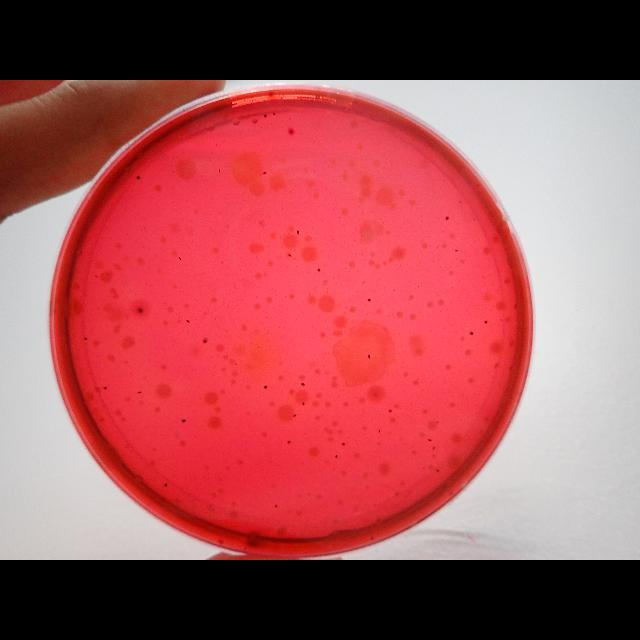colony: (288, 127, 296, 137), (136, 306, 146, 314), (82, 334, 90, 342), (180, 417, 188, 425), (340, 440, 348, 448), (202, 336, 208, 346), (262, 112, 268, 120), (135, 174, 141, 182), (185, 317, 191, 325), (136, 388, 142, 396), (163, 480, 169, 488), (262, 384, 270, 390), (444, 214, 450, 222), (178, 255, 185, 261), (102, 384, 108, 391), (300, 399, 306, 406), (468, 329, 474, 336), (271, 111, 277, 117), (286, 438, 292, 444), (300, 381, 306, 387), (292, 412, 298, 418), (427, 437, 433, 443), (434, 467, 440, 473), (217, 166, 221, 174), (334, 452, 338, 460), (262, 170, 266, 176), (274, 502, 278, 508), (377, 428, 381, 434), (388, 408, 392, 414), (484, 319, 488, 325), (454, 248, 458, 254), (367, 353, 371, 359), (316, 268, 322, 272), (288, 252, 292, 258), (296, 230, 300, 236), (367, 298, 371, 302), (432, 446, 434, 450)
